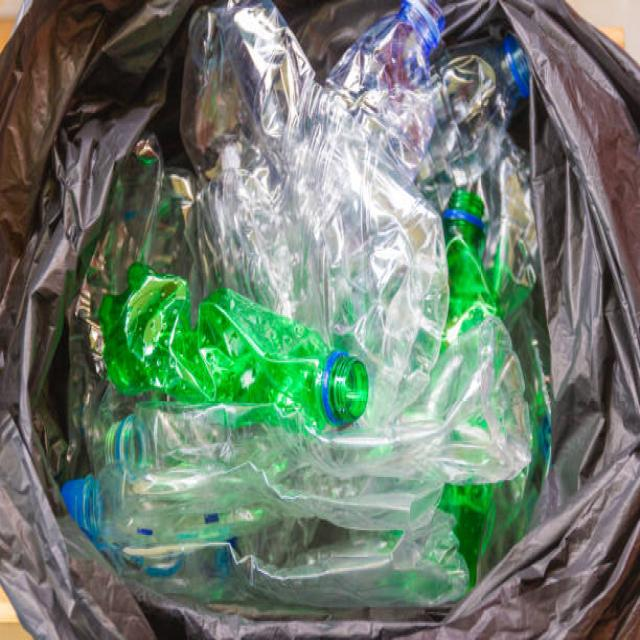plastic: (168, 53, 522, 563)
